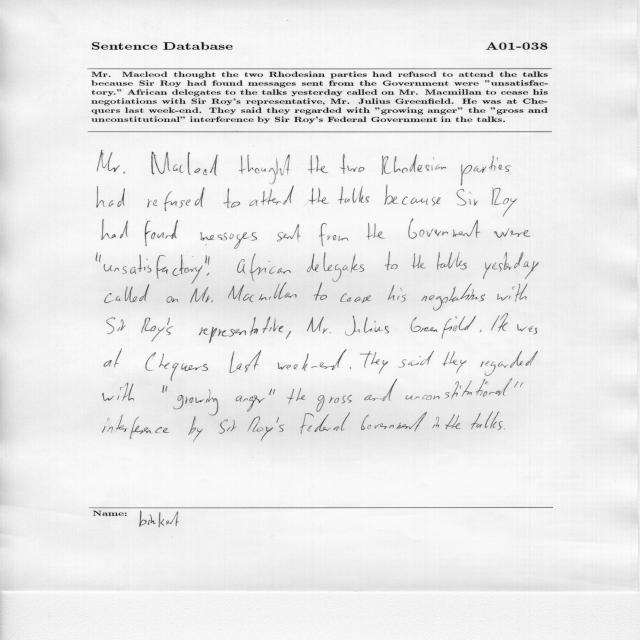word: (103, 254, 203, 284), (406, 379, 513, 400), (209, 316, 283, 343), (145, 352, 208, 381), (421, 284, 485, 311), (307, 252, 364, 282), (151, 152, 218, 176), (142, 318, 209, 342), (103, 415, 170, 439), (239, 155, 290, 185), (411, 316, 477, 339), (278, 349, 347, 371), (483, 252, 539, 279), (461, 156, 511, 186), (408, 219, 481, 239), (237, 254, 291, 281), (480, 351, 538, 376), (147, 187, 205, 211), (382, 154, 446, 175), (361, 412, 427, 432), (228, 283, 297, 302), (174, 389, 219, 416), (384, 185, 441, 206), (300, 412, 350, 434), (236, 388, 276, 412), (201, 232, 257, 249), (249, 186, 294, 206), (248, 417, 284, 442), (345, 316, 389, 336), (145, 220, 178, 246), (105, 284, 150, 303), (365, 379, 398, 402), (492, 187, 517, 217), (230, 350, 262, 373), (98, 150, 126, 174), (319, 223, 348, 246), (360, 351, 388, 374), (97, 186, 125, 208), (398, 351, 434, 368), (316, 395, 352, 412), (338, 186, 370, 204), (471, 412, 503, 430), (103, 383, 134, 401), (442, 352, 467, 374), (102, 219, 128, 240), (437, 252, 467, 270), (498, 284, 528, 302), (340, 154, 365, 174), (277, 224, 301, 242), (188, 416, 203, 442), (307, 317, 331, 333), (308, 155, 329, 173), (494, 228, 531, 238), (190, 287, 213, 303), (457, 189, 478, 206), (223, 188, 240, 208), (104, 349, 122, 367), (309, 188, 328, 205), (367, 223, 386, 240), (107, 318, 126, 335), (491, 313, 508, 332), (340, 293, 371, 303), (388, 285, 406, 302), (219, 419, 237, 434), (411, 253, 426, 269), (385, 252, 398, 270), (314, 283, 327, 301), (446, 415, 461, 430), (517, 324, 537, 335), (296, 388, 306, 401), (287, 389, 294, 404), (206, 256, 210, 276), (167, 296, 178, 303), (433, 417, 439, 429), (514, 381, 524, 388), (96, 252, 101, 263), (286, 331, 291, 339), (162, 385, 167, 393), (205, 256, 207, 264), (480, 330, 482, 333), (350, 367, 351, 369), (504, 429, 505, 429)
